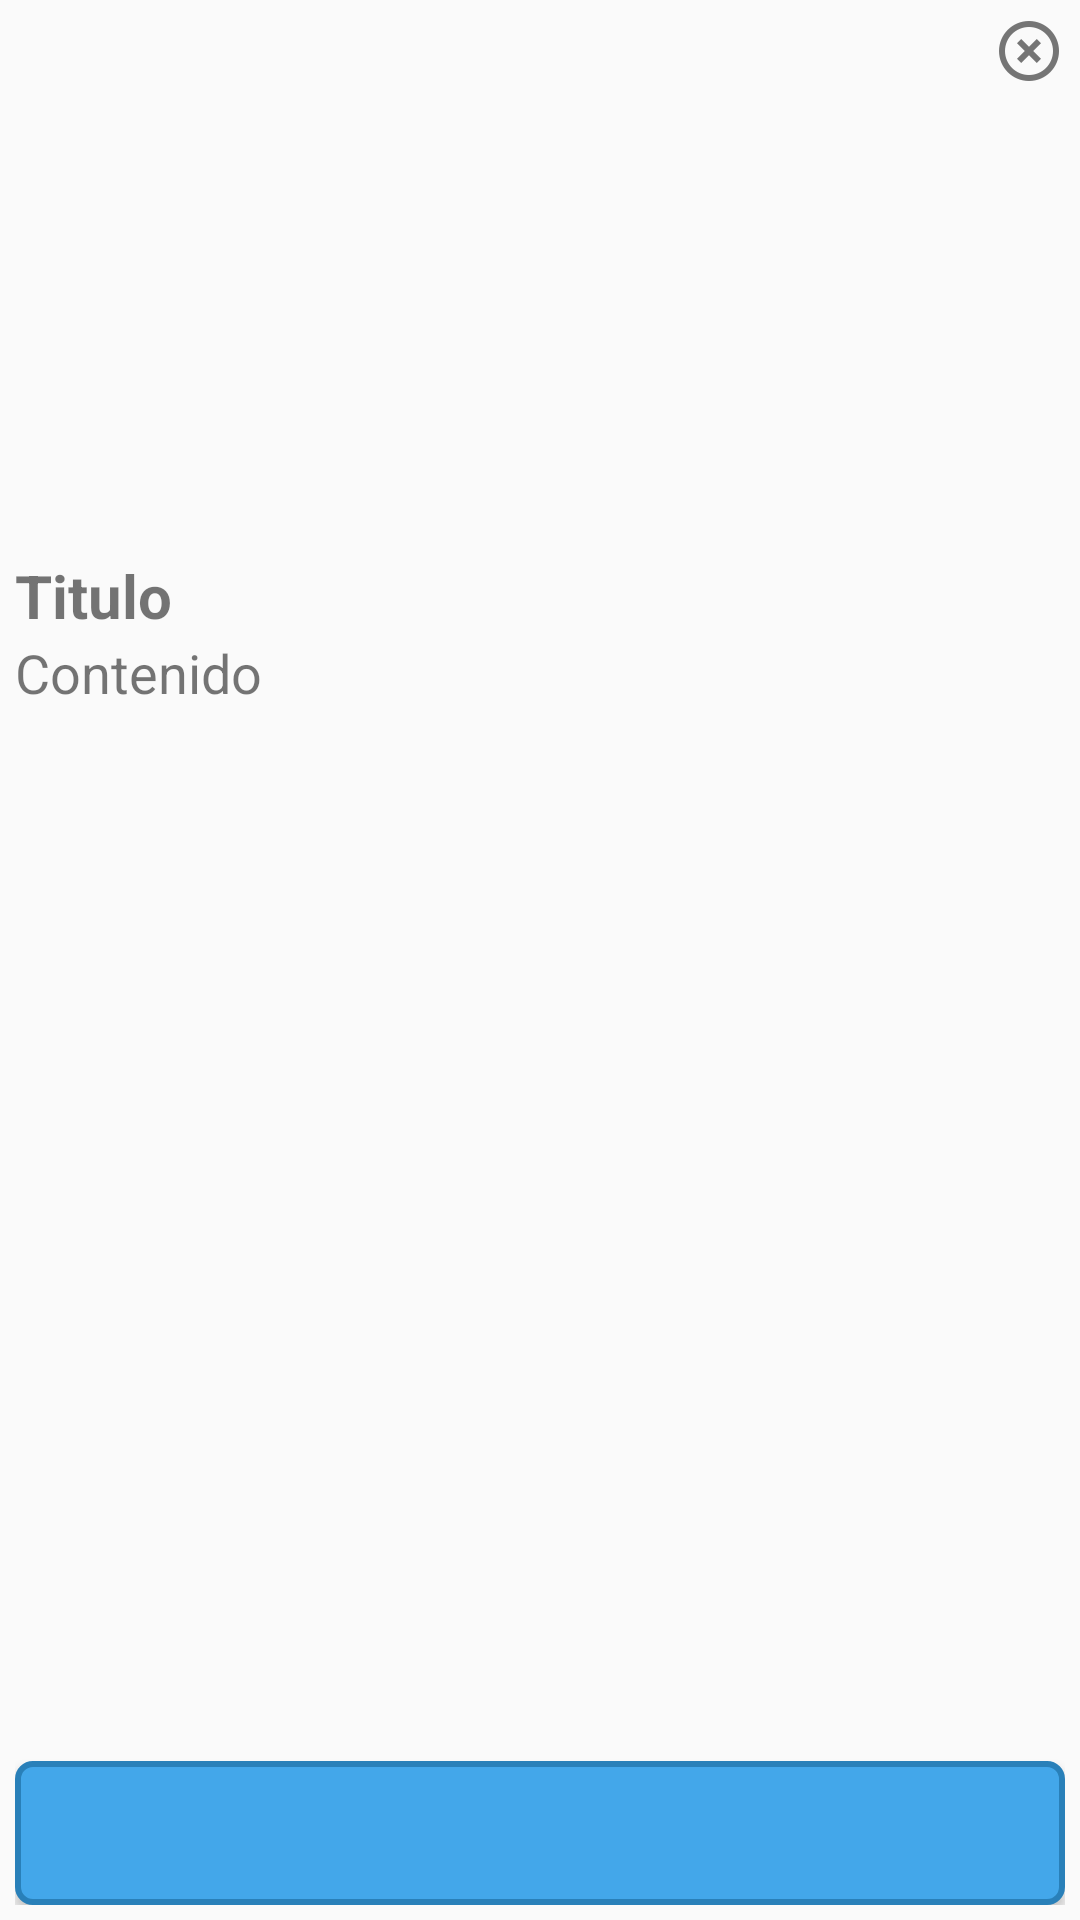

Named icons in this screenshot (1080x1920) and their centers, point (x, y):
close circle: point (1029, 51)
